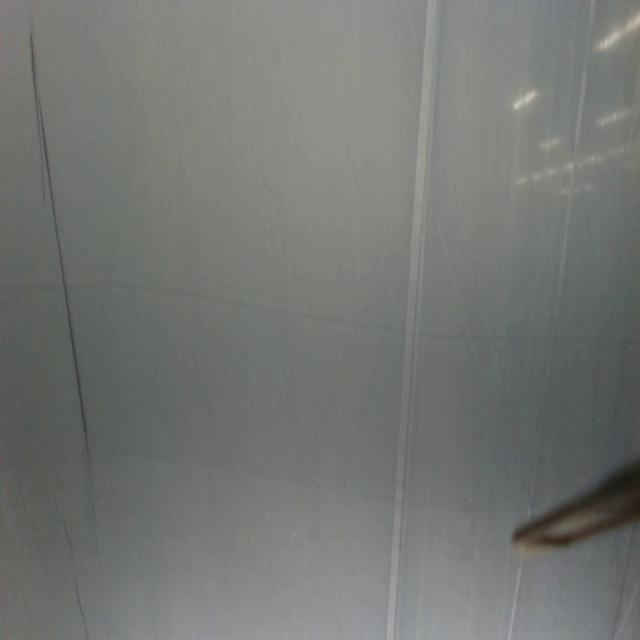crease: (386, 0, 444, 639), (527, 0, 599, 494), (28, 33, 92, 467), (613, 528, 637, 638), (506, 555, 529, 640), (50, 489, 77, 556), (73, 582, 91, 640)
